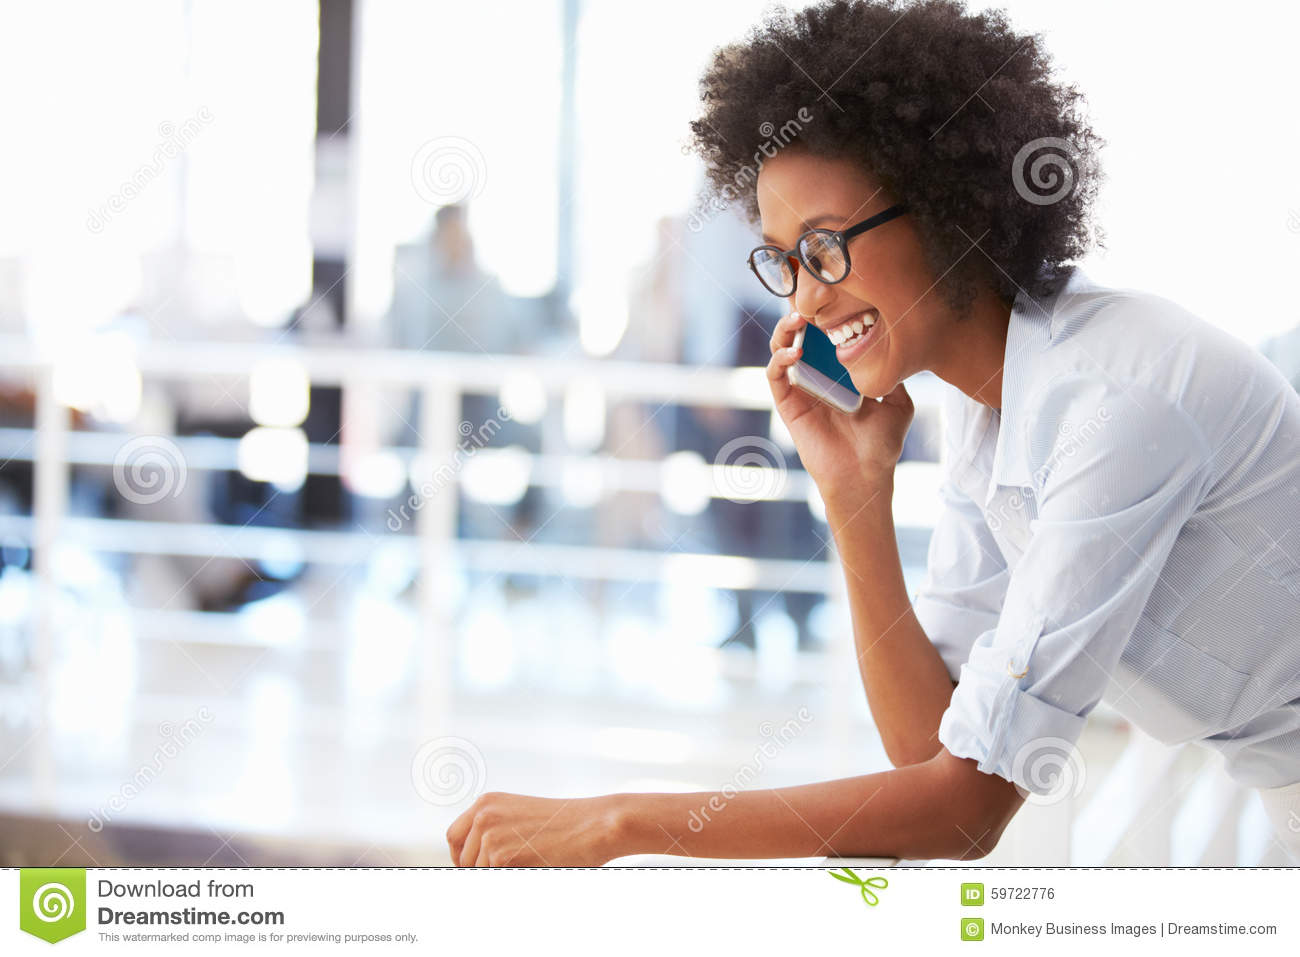talk: (762, 211, 914, 514)
